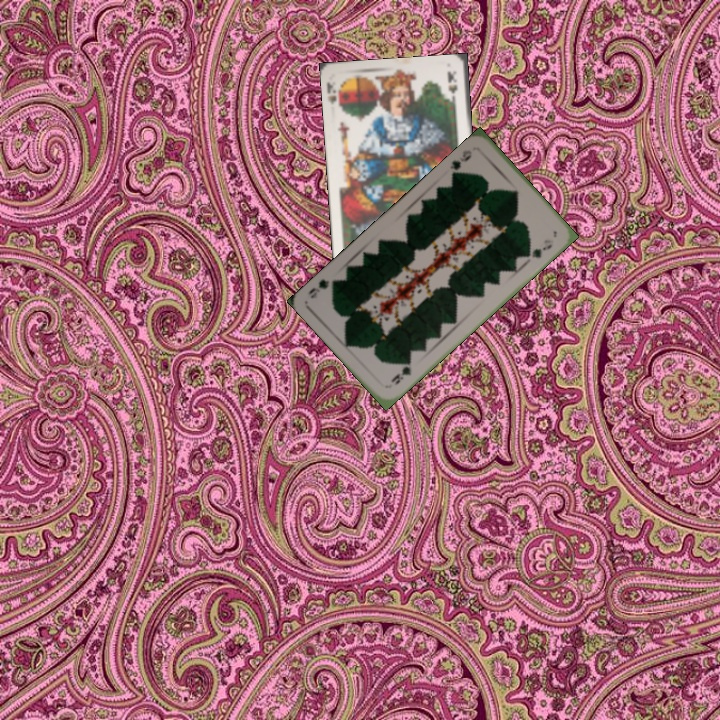G9: (446, 146, 475, 179), (386, 357, 414, 387)
SK: (324, 78, 339, 106)
